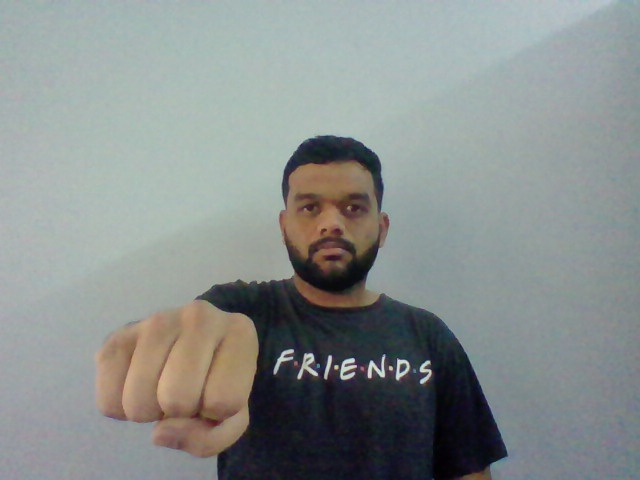Yes: (91, 296, 259, 458)
